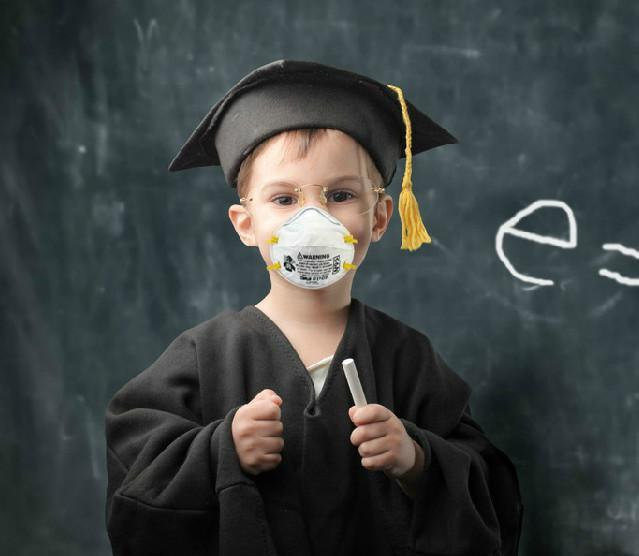OK: (251, 170, 369, 288)
